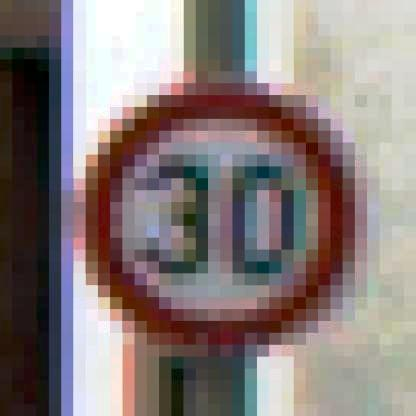Speed Limit -30-: (74, 76, 370, 352)
